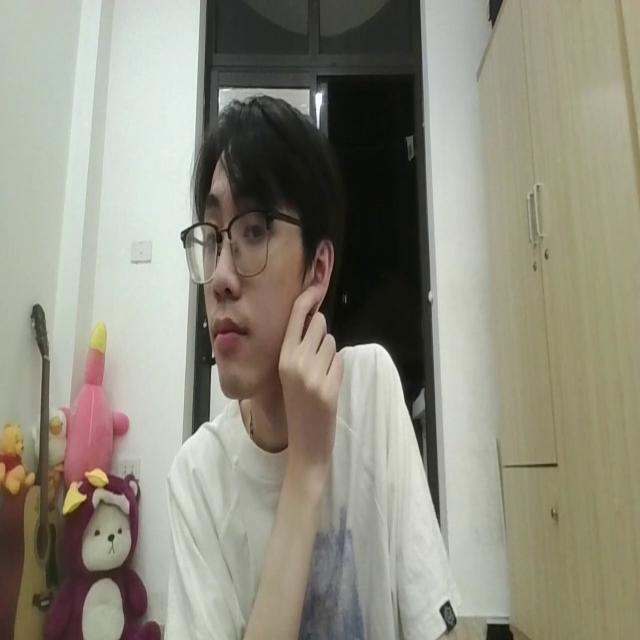student: (156, 93, 456, 640)
